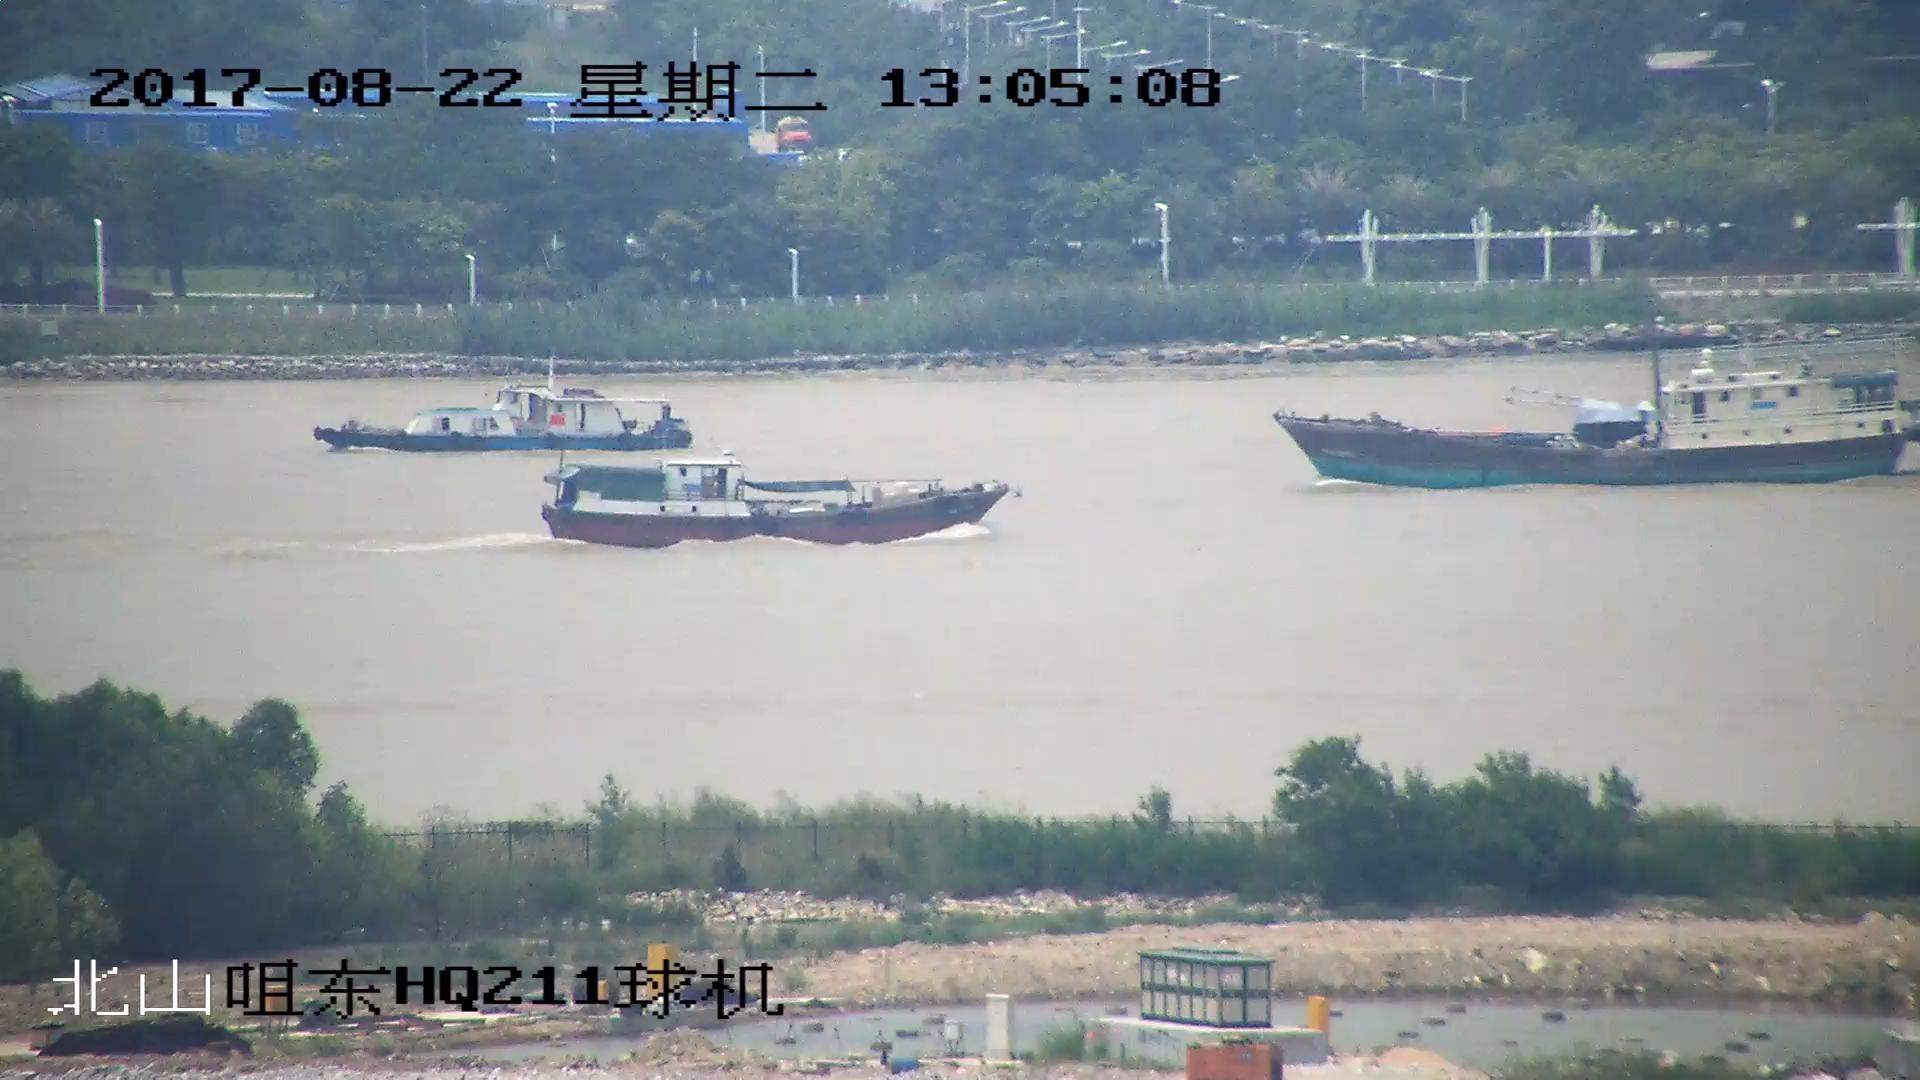fishing boat: (1274, 324, 1920, 489), (538, 416, 1019, 548), (314, 359, 693, 454)
